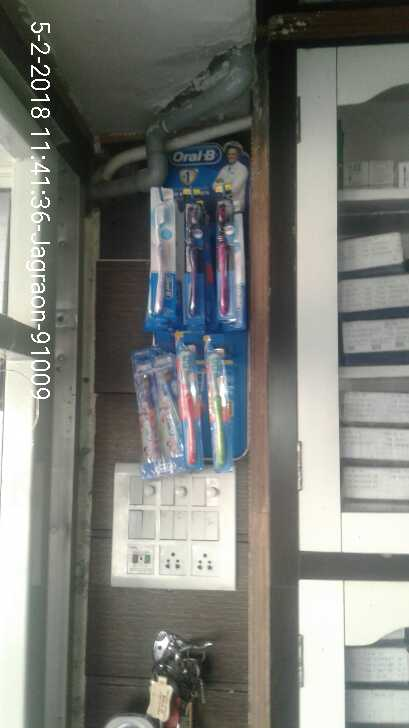oralb: (201, 350, 233, 476), (167, 350, 199, 462), (142, 195, 170, 315), (179, 197, 206, 313), (213, 196, 236, 321)
